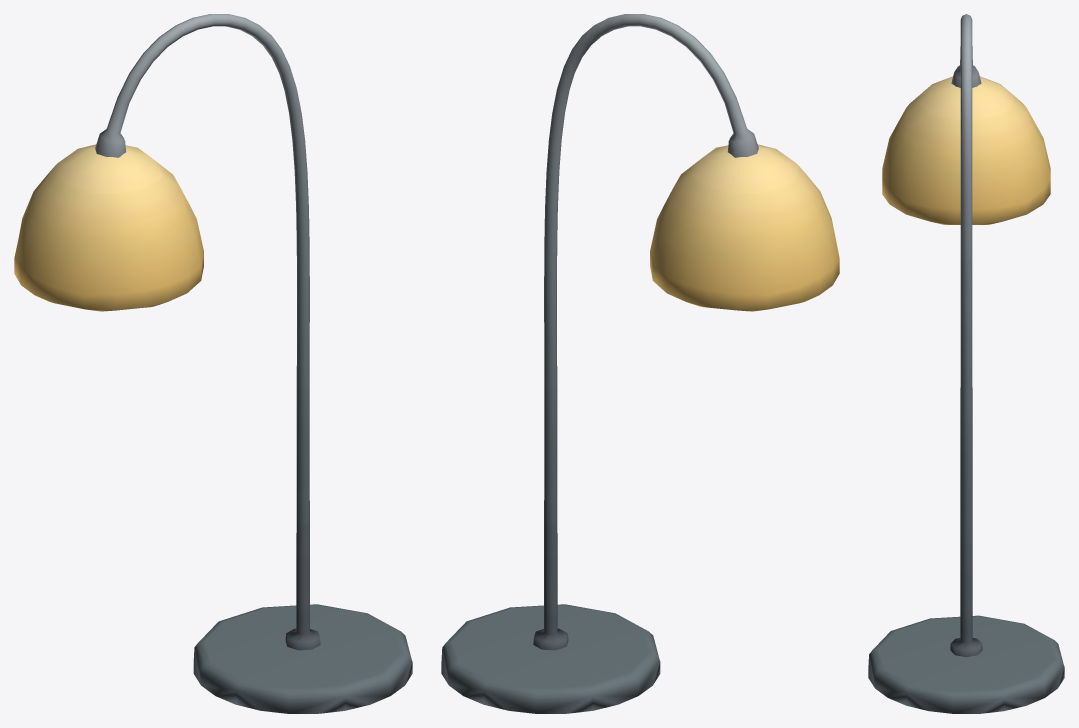
File: Light_07.glb
3 views of the same model, side by side, from view 1: azimuth 30°, elevation 25°; view 2: azimuth 150°, elevation 25°; view 3: azimuth 270°, elevation 25° (orthographic). The views are drawn at different scales.
Visible parts, largest first — view 1: Light_07; view 2: Light_07; view 3: Light_07.
Boxes of the visible parts, x1,y1,x2,y2 form: Light_07: (14,14,412,713); Light_07: (441,14,839,713); Light_07: (868,14,1064,713).
Bounding box in the file's own units: 0.8677 × 1.51 × 0.4441.
Materials: 1 (1 with a texture image).
